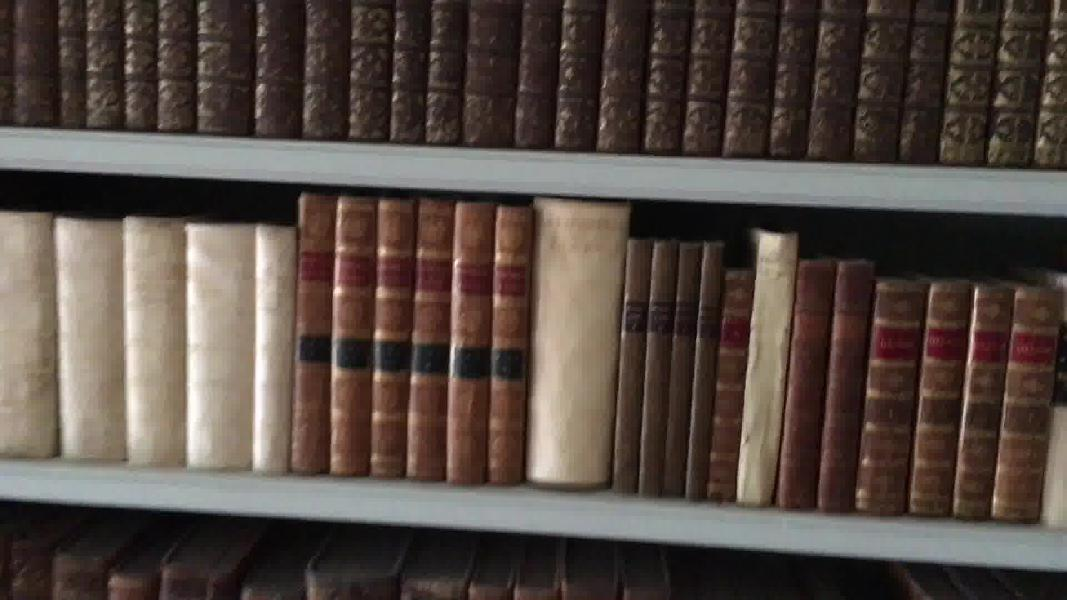Kk4-14: (541, 203, 604, 497)
Kk4-15_16: (629, 241, 673, 513)
Kk4-17_18: (679, 231, 698, 513)
Kk4-19: (716, 259, 738, 500)
Kk4-20: (748, 238, 788, 528)
Kk4-21_22: (794, 266, 863, 519)
Kk4-23_26: (876, 259, 1051, 528)
Kk4-3_7: (1, 207, 291, 478)
Kk4-8_13: (291, 181, 529, 491)
